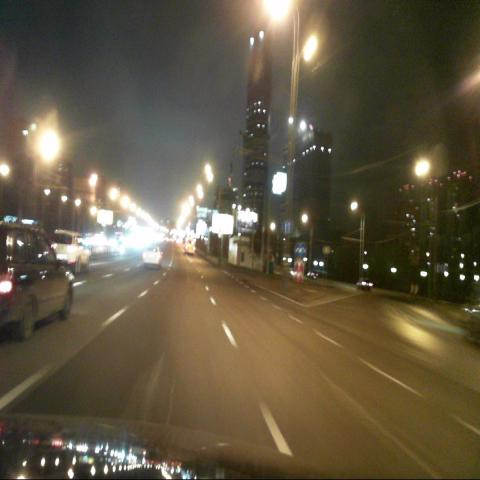4_1_1: (286, 219, 293, 233)
4_2_3: (298, 242, 306, 257)
